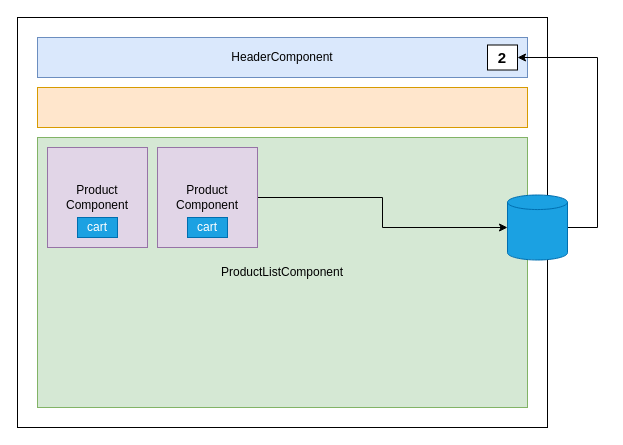
This 623x445 diagram has some shape labels left out. The centre of each missing label's shape, as x and y in pixels:
"CategoryListComponent" goes at point (282, 107).
"global state" goes at point (537, 227).
